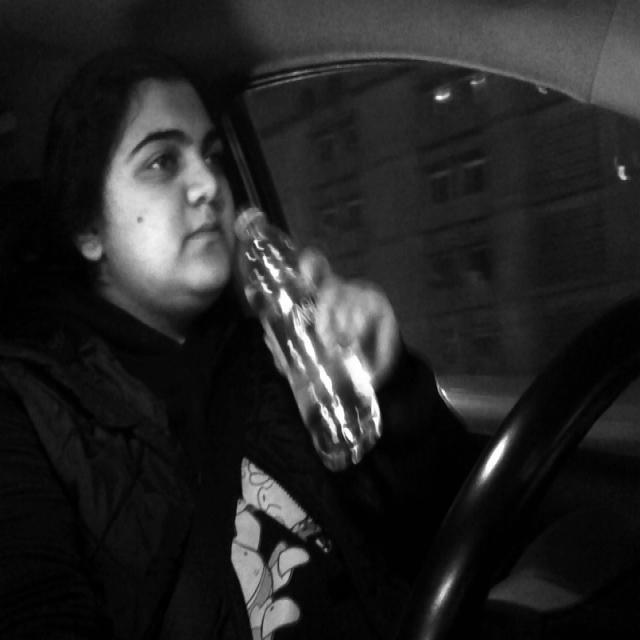Drinking: (233, 201, 395, 468)
